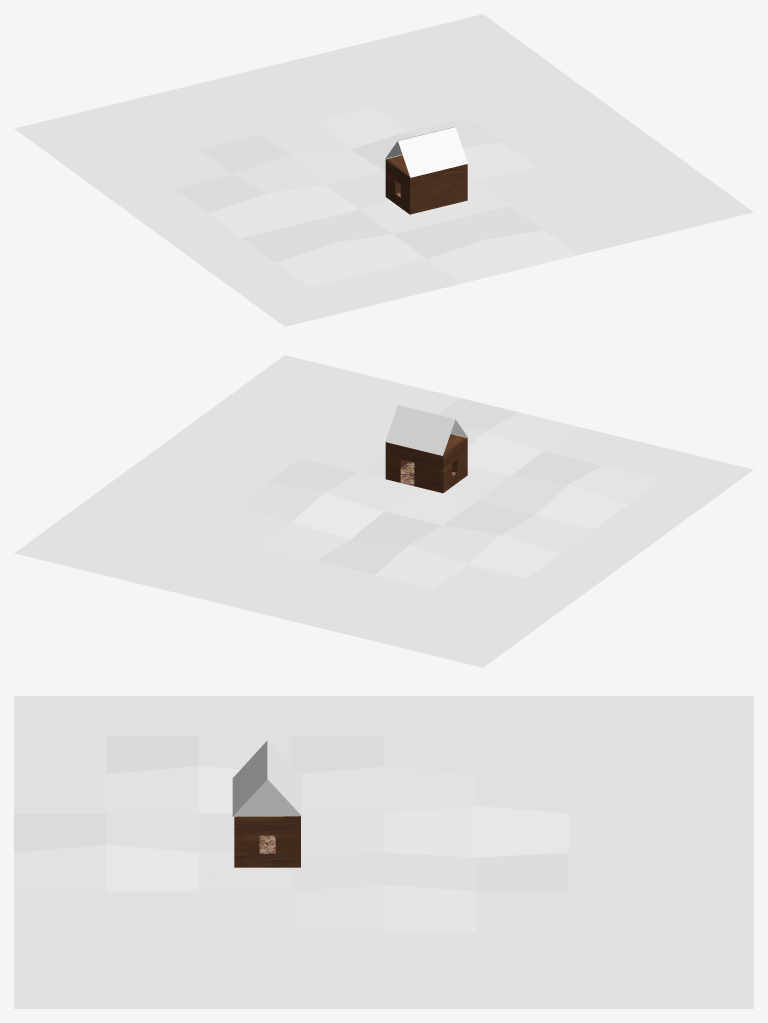
File: grassland.glb
The picture shows the model from 3 angles, top to bottom: view 1: azimuth 30°, elevation 25°; view 2: azimuth 150°, elevation 25°; view 3: azimuth 270°, elevation 25°; orthographic projection. The views are drawn at different scales.
Parts seen in each view (by area): view 1: Plane, Cube.001, Plane.002; view 2: Plane, Cube.001, Plane.002; view 3: Plane, Plane.002, Cube.001.
Part boxes in pixels (x1=…): Plane: x1=14, y1=14, x2=753, y2=326; Cube.001: x1=385, y1=155, x2=467, y2=214; Plane.002: x1=385, y1=126, x2=467, y2=177; Plane: x1=14, y1=355, x2=753, y2=667; Cube.001: x1=385, y1=434, x2=467, y2=493; Plane.002: x1=385, y1=405, x2=467, y2=455; Plane: x1=14, y1=696, x2=753, y2=1008; Plane.002: x1=232, y1=740, x2=301, y2=816; Cube.001: x1=234, y1=816, x2=300, y2=867.
Bounding box in the file's own units: 64.2 × 9.4 × 64.2.
Materials: 4 (4 with a texture image).
